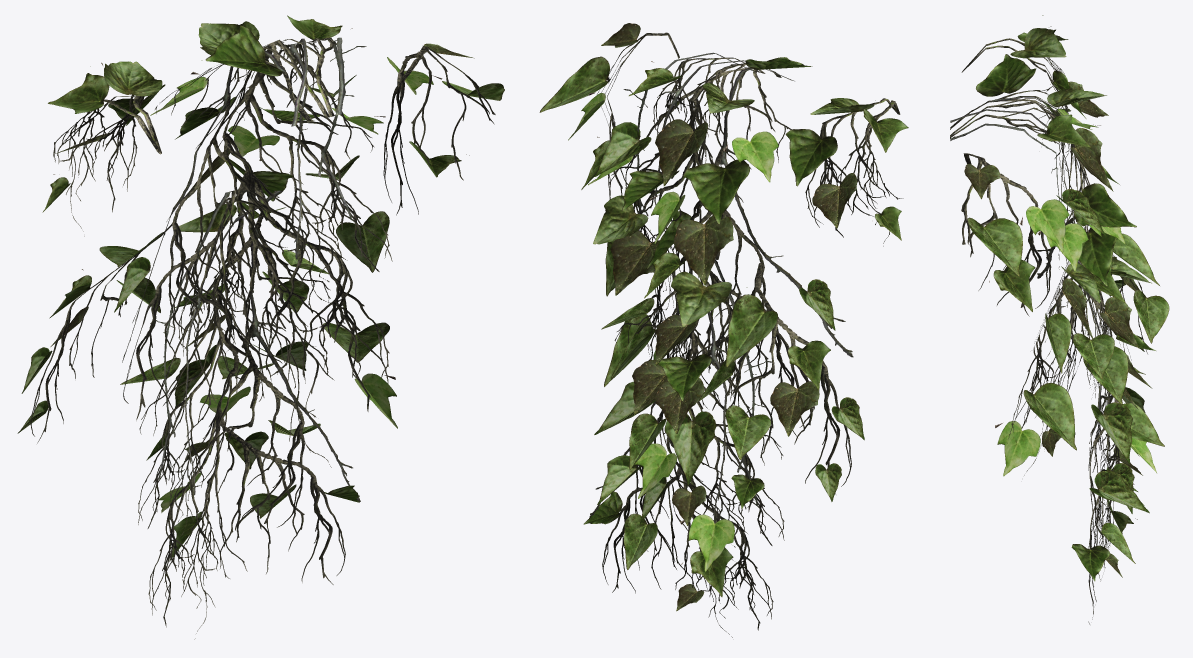
File: SM_Ivy_Clump.FBX
The picture shows the model from 3 angles, left to right: view 1: azimuth 30°, elevation 25°; view 2: azimuth 150°, elevation 25°; view 3: azimuth 270°, elevation 25°; orthographic projection. The views are drawn at different scales.
Parts seen in each view (by area): view 1: SM_Ivy_Clump; view 2: SM_Ivy_Clump; view 3: SM_Ivy_Clump.
Boxes of the visible parts, x1=… form: SM_Ivy_Clump: x1=17, y1=15, x2=504, y2=639; SM_Ivy_Clump: x1=539, y1=23, x2=908, y2=637; SM_Ivy_Clump: x1=950, y1=15, x2=1169, y2=624.
Size of what is drawn, in the model's own units: 115 by 64.25 by 162.
